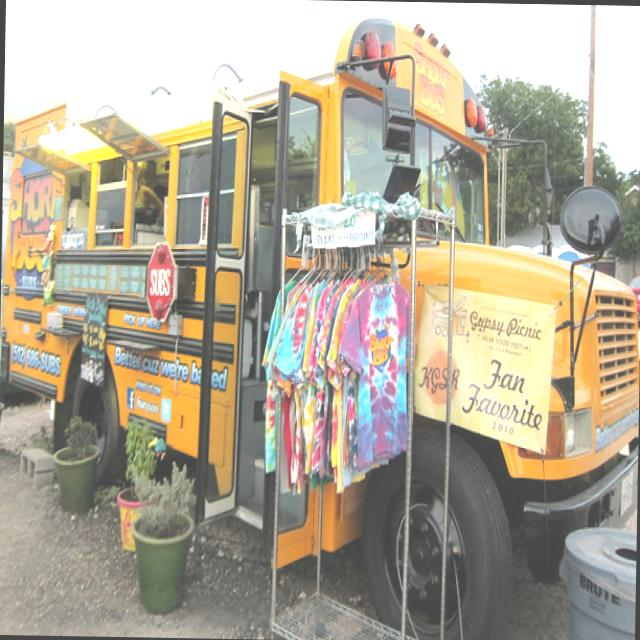Vehicle: (0, 15, 640, 630), (627, 273, 640, 314)
